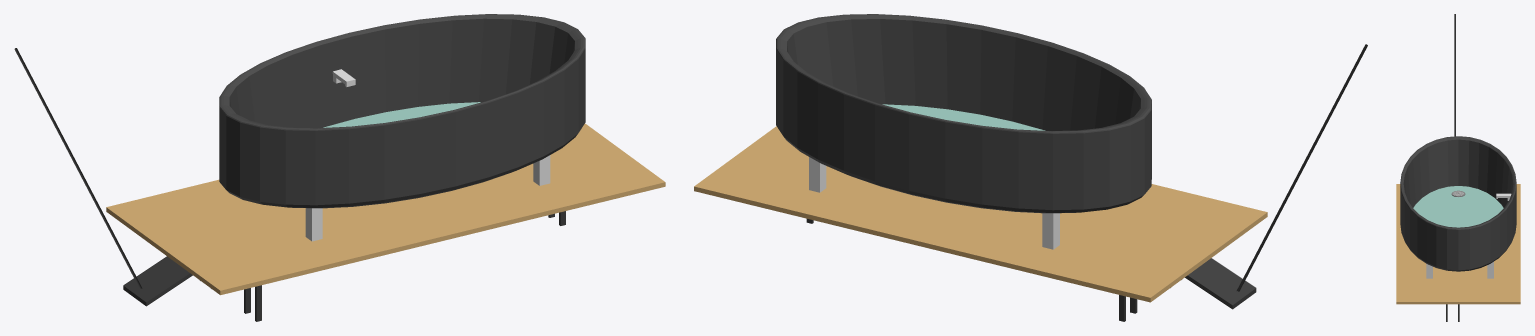
The model's file is Bathtub.gltf.
The picture shows the model from 3 angles, left to right: view 1: azimuth 30°, elevation 25°; view 2: azimuth 150°, elevation 25°; view 3: azimuth 270°, elevation 25°; orthographic projection. The views are drawn at different scales.
Visible parts, largest first — view 1: Cube.029; view 2: Cube.029; view 3: Cube.029.
Part boxes in pixels (x1=…): Cube.029: x1=14, y1=14, x2=665, y2=321; Cube.029: x1=694, y1=14, x2=1367, y2=321; Cube.029: x1=1396, y1=14, x2=1520, y2=321.
Size of the model in its own units: 13.51 by 6.55 by 4.48.
